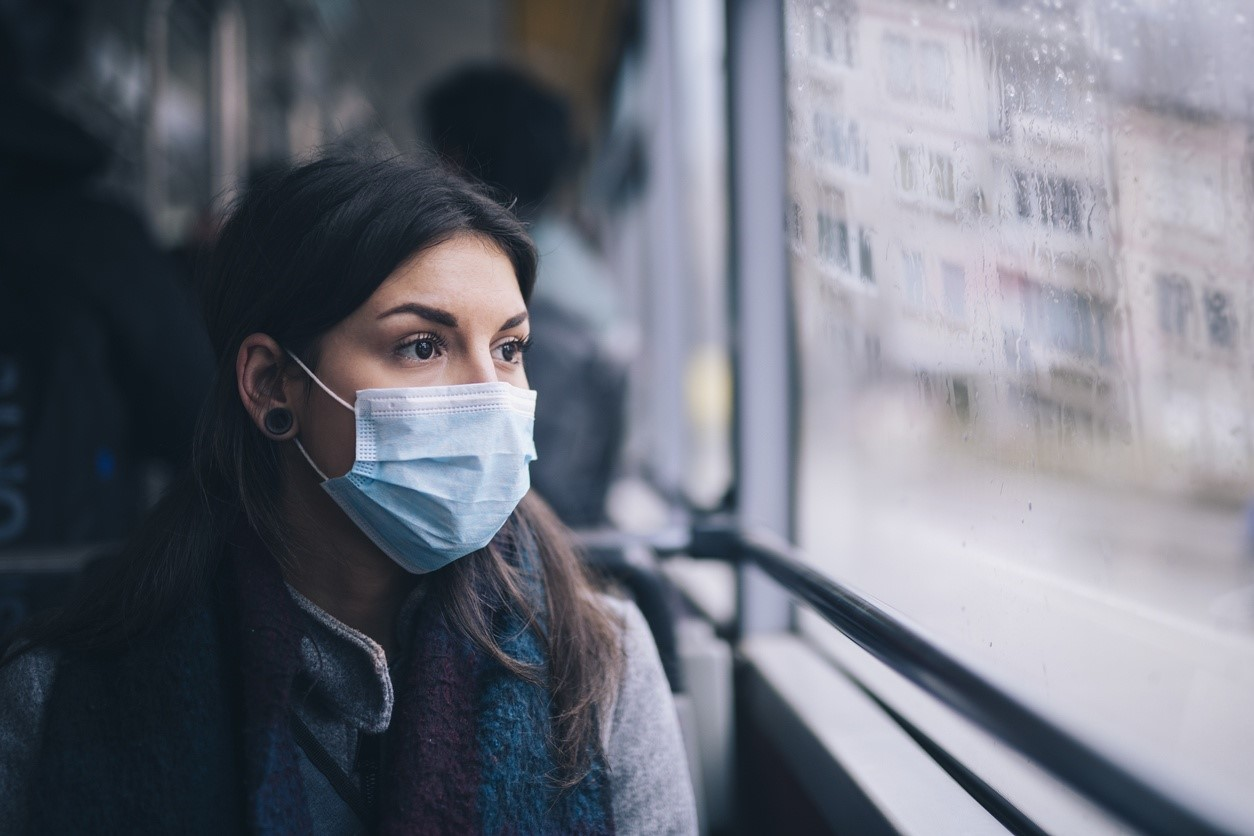face_with_mask: (209, 150, 544, 579)
